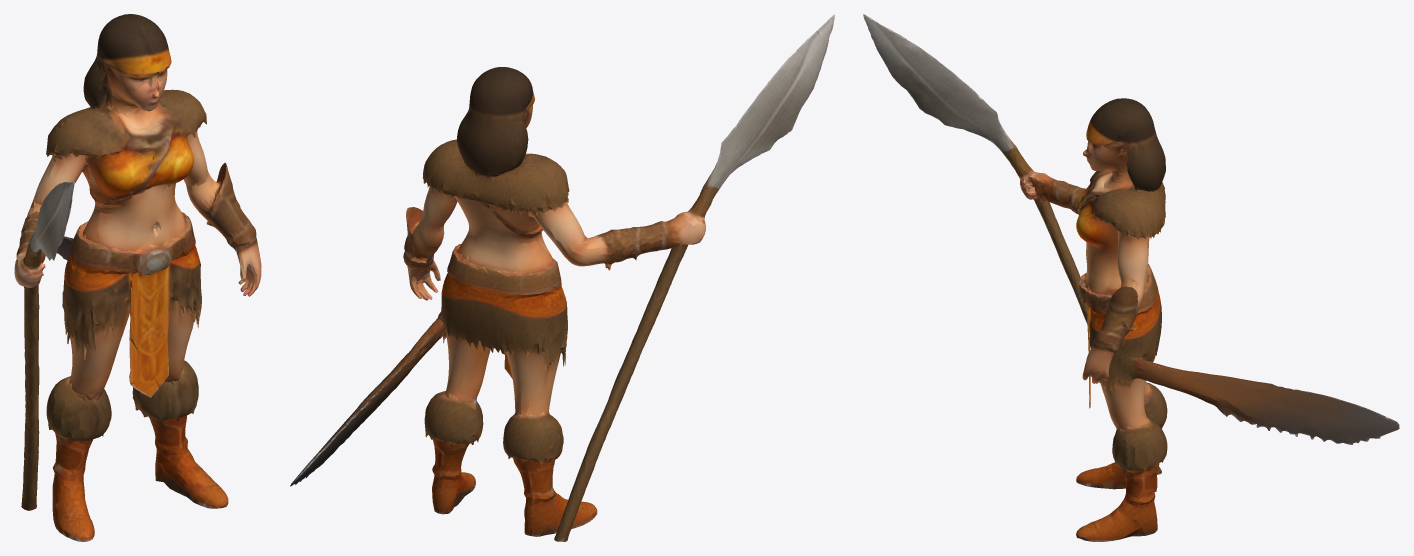
Rendered from amazona.glb.
3 renders of one model, left to right at view 1: azimuth 30°, elevation 25°; view 2: azimuth 150°, elevation 25°; view 3: azimuth 270°, elevation 25°, orthographic. The views are drawn at different scales.
Visible parts, largest first — view 1: amazona; view 2: amazona; view 3: amazona.
Boxes of the visible parts, bbox=[...] form: amazona: bbox=[14, 14, 261, 541]; amazona: bbox=[290, 14, 834, 541]; amazona: bbox=[863, 14, 1399, 541].
Bounding box in the file's own units: 1.12 × 1.59 × 1.89.
Materials: 1 (1 with a texture image).
